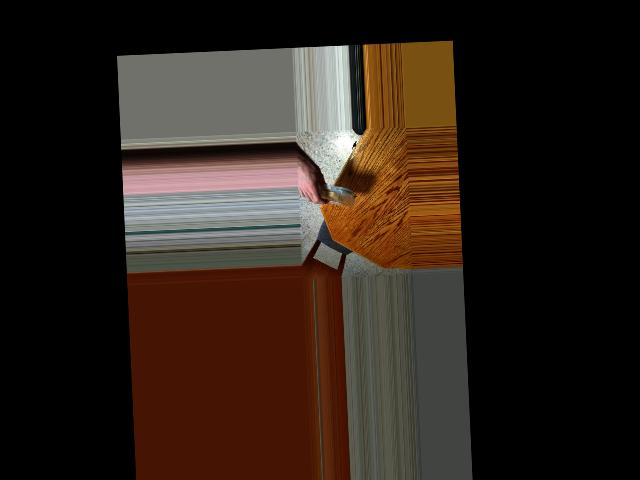cheese: (318, 176, 352, 208)
